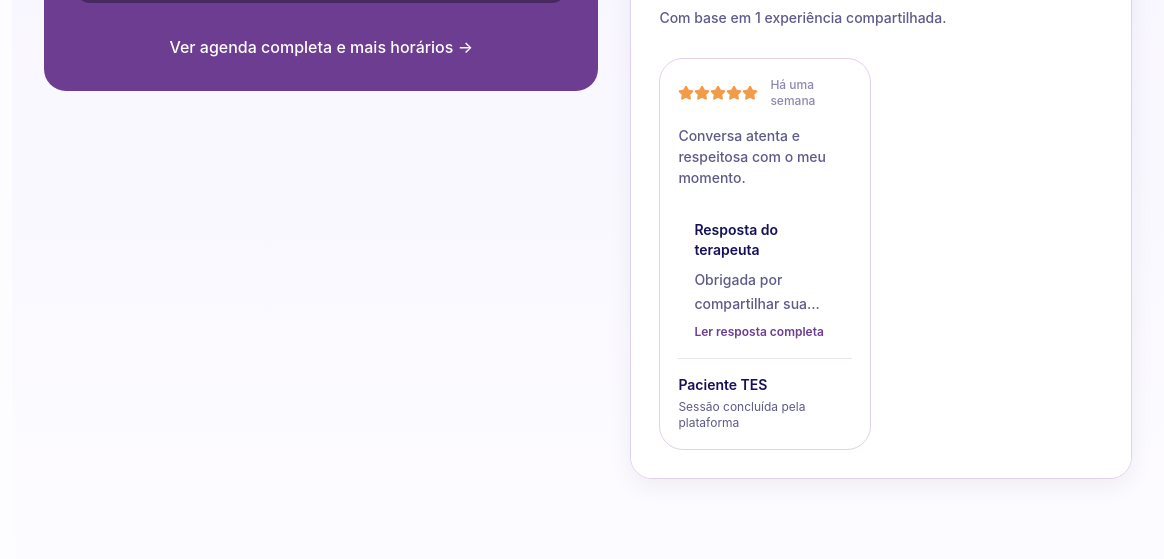
Test: TherapistProfilePage video block › shows one therapist reply sentence before expanding the full answer
This screenshot has width=1164, height=559.
(page scrolled)
Check: the text "Obrigada por compartilhar sua experiência com tanto cuidado." is shown, box [694, 271, 807, 336]
Click the button "Ler resposta completa" at (759, 332), box [694, 324, 824, 340]
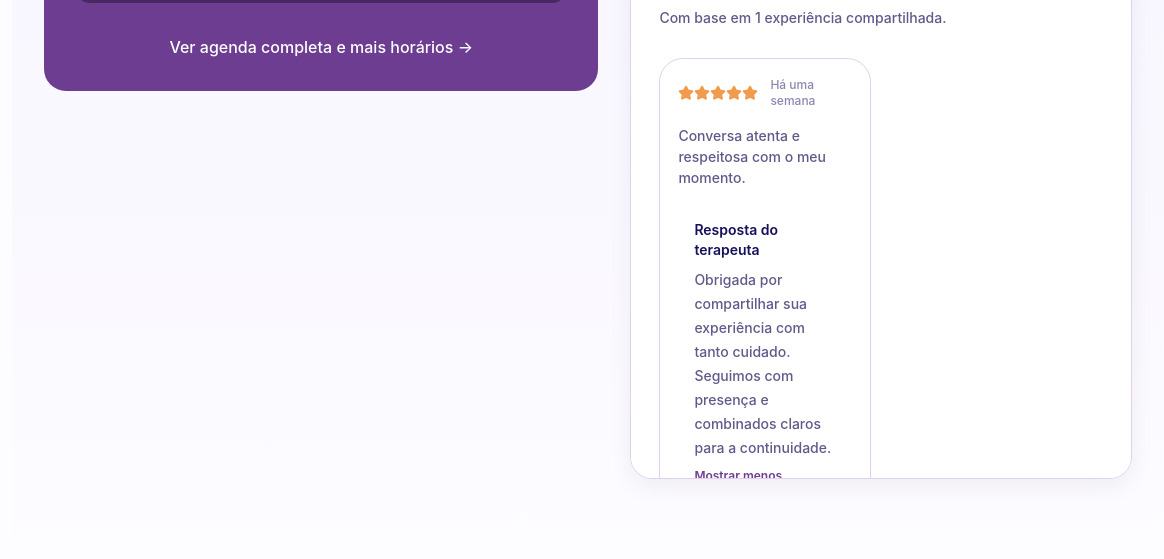
Check: the text "Seguimos com presença e combinados claros" is shown, box [694, 271, 831, 456]
